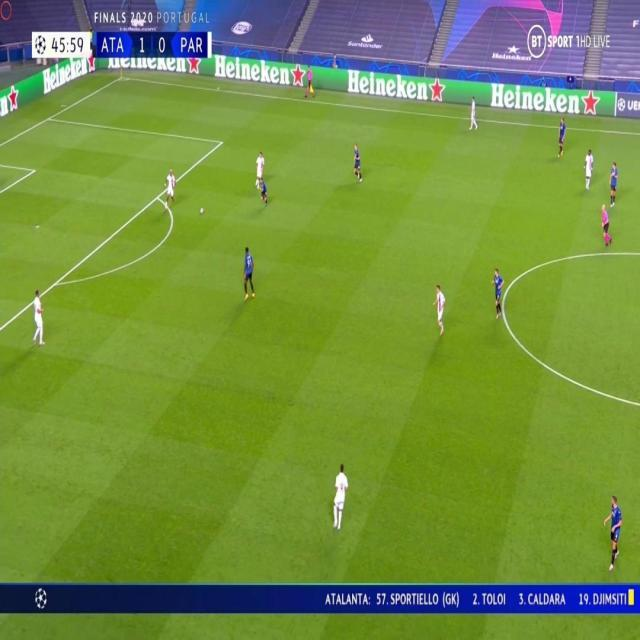ball: (199, 205, 205, 215)
player: (602, 491, 624, 568), (332, 460, 349, 530), (30, 286, 46, 347), (431, 281, 447, 335), (242, 244, 256, 301), (490, 267, 504, 320), (350, 140, 363, 184), (607, 160, 619, 207), (583, 145, 595, 190), (254, 148, 266, 190), (164, 166, 176, 208), (555, 115, 566, 157), (468, 93, 479, 129), (259, 180, 269, 207)
referee: (600, 202, 613, 246), (304, 64, 316, 97)
